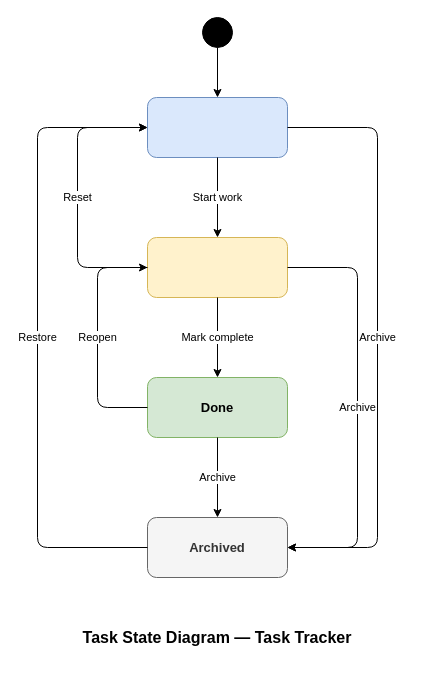
The diagram is 434 pixels wide and 675 high, and some of its shapes have lost their labels. Here are the shapes that lost their labels. From the top down, the box of each, then its label:
(146, 96, 288, 158): To Do
(146, 236, 288, 298): In Progress
